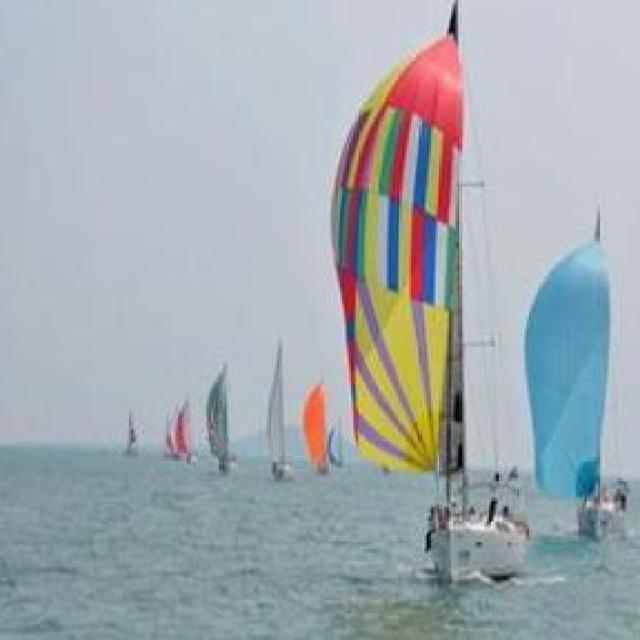sailboat: (323, 63, 552, 602), (524, 200, 632, 558), (254, 335, 312, 470), (202, 358, 242, 484), (301, 362, 348, 469), (151, 389, 186, 460)
